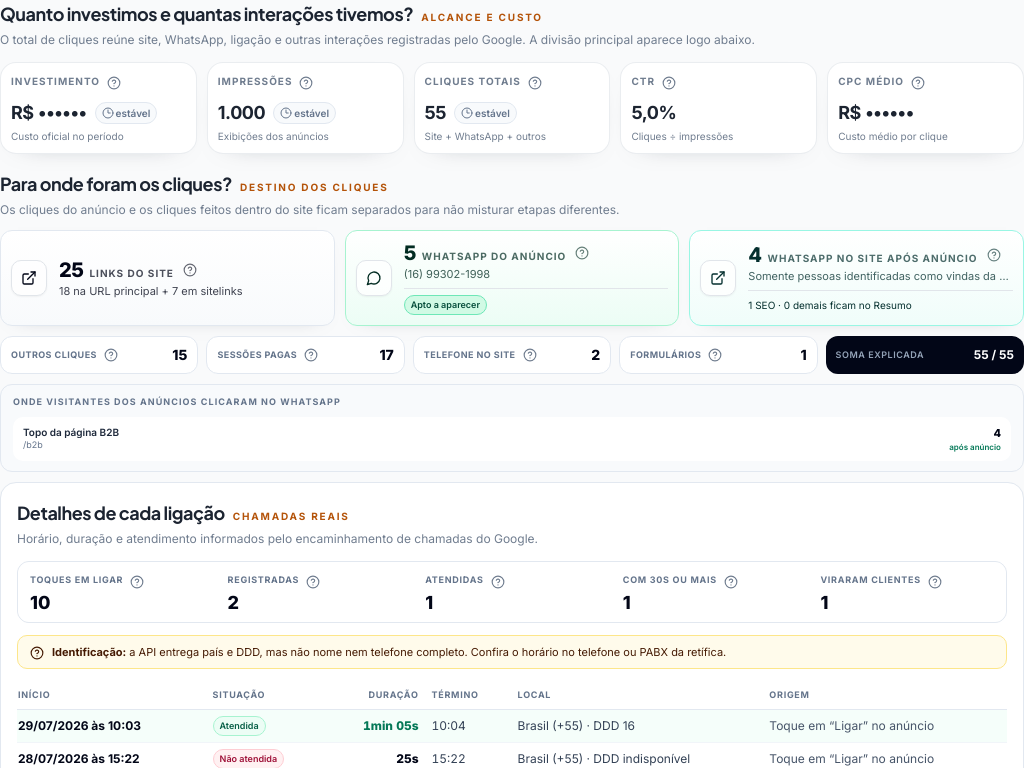
Test: organização do painel Crescimento › mantém a aba Google Ads focada somente em mídia paga e explica seus KPIs
Check: the heading "Quanto investimos e quantas interações tivemos?" is shown, box [0,0,413,28]
Check: the heading "Para onde foram os cliques?" is shown, box [0,170,232,198]
Focus the button named "Entender CTR". click: point(669, 83)
box: [659,73,679,93]
(page scrolled)
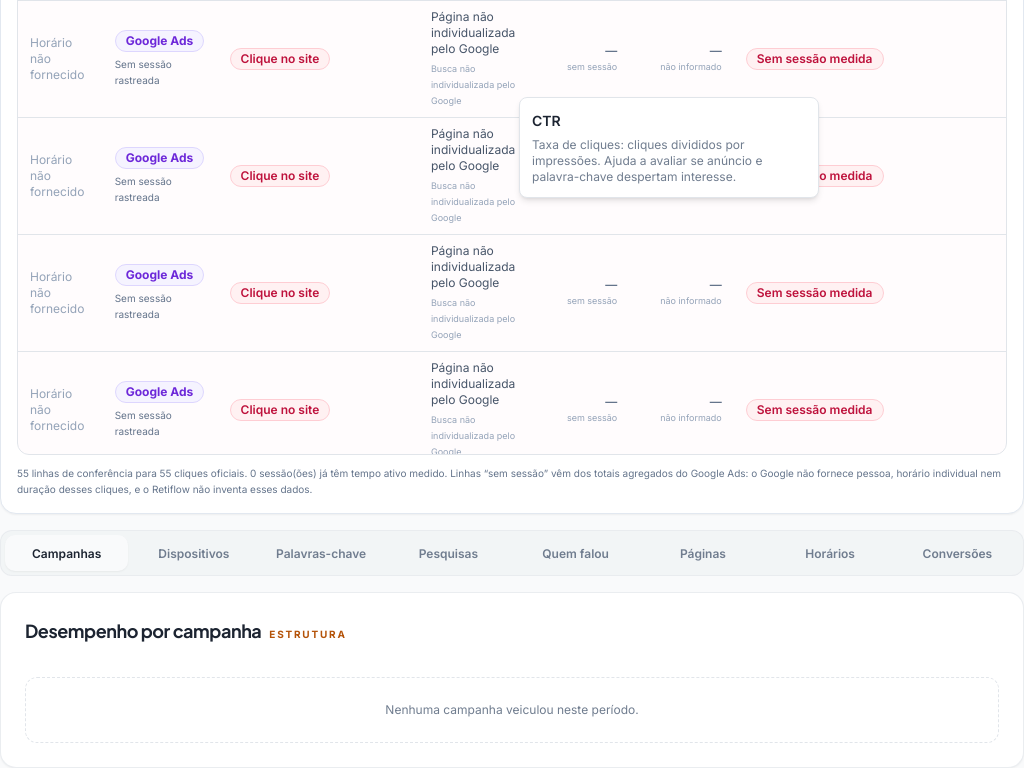
Check: the text "Taxa de cliques: cliques divididos por impressões" is shown, box [532,137,762,184]
Press Enter in the tab "Palavras-chave", box [260,535,383,571]
(page scrolled)
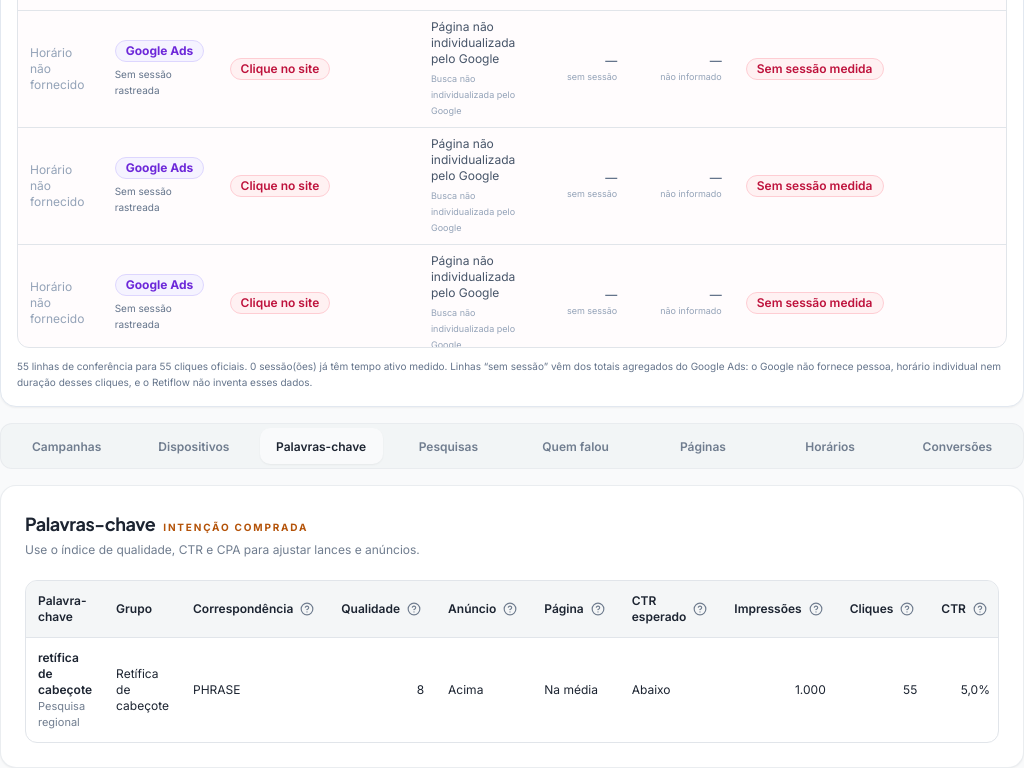
Check: the text "CTR esperado" is shown, box [632,593,710,625]
Check: the text "Retífica de cabeçote" is shown, box [104,638,181,742]
Check: the text "Acima" is shown, box [436,638,532,742]
